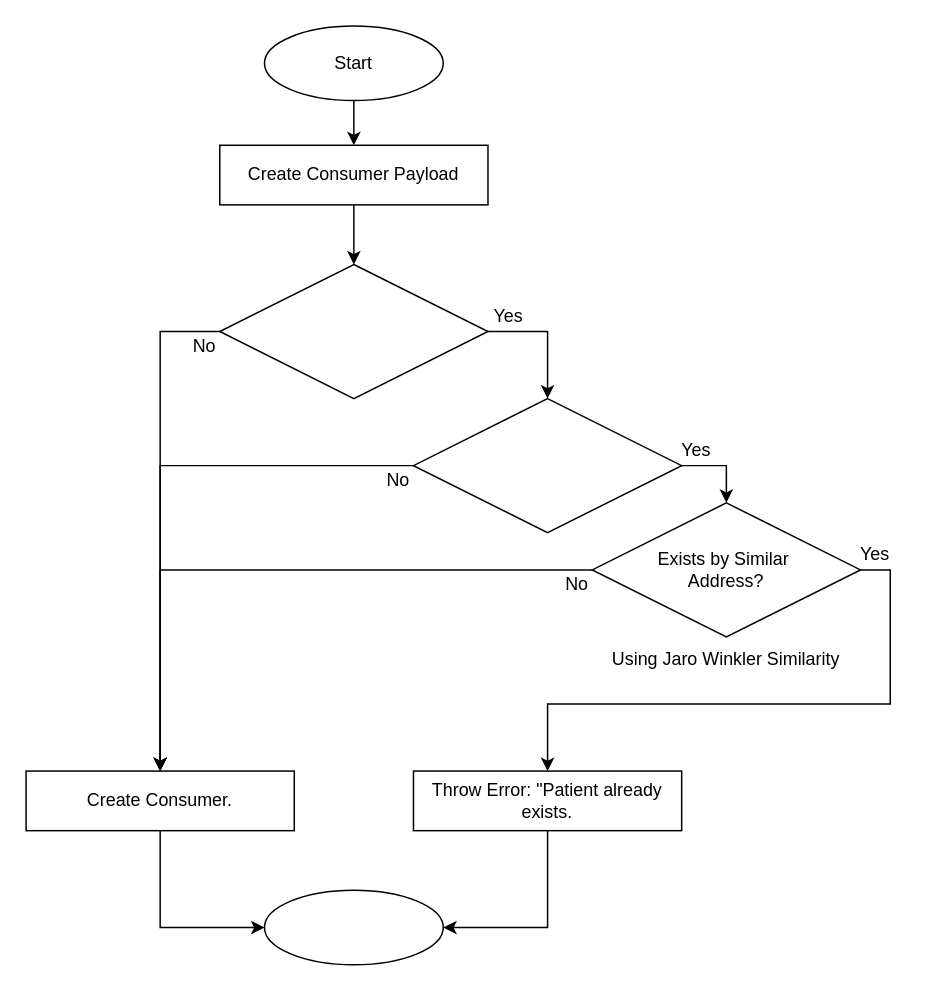
The diagram is 946 pixels wide and 991 high, and some of its shapes have lost their labels. Each missing label, with the box of its shape:
End: (263, 889, 443, 965)
Exists by Same DOB?: (412, 397, 682, 533)
Exists by Same Name and DOB?: (218, 263, 488, 399)
